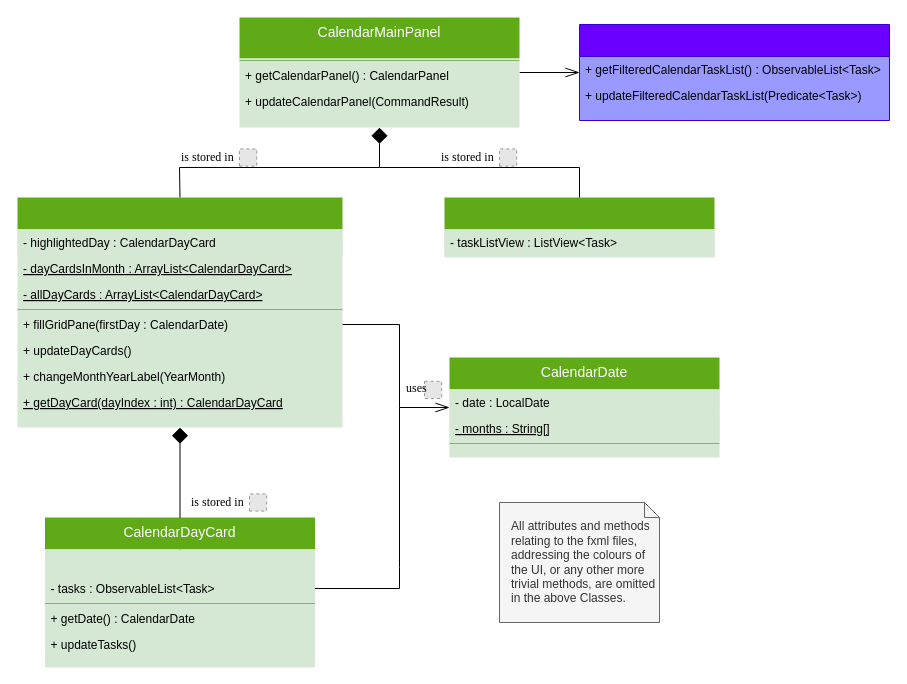
The diagram is 907 pixels wide and 684 high, and some of its shapes have lost their labels. Grey dashed boxes stand in for pictures. Here are the shapes that lost their labels. From the top down, the box of each, then its label:
(578, 24, 890, 120): Logic
(444, 197, 714, 257): CalendarTaskListPanel
(17, 197, 342, 427): CalendarPanel
(44, 549, 314, 575): - calendarDate : CalendarDate
